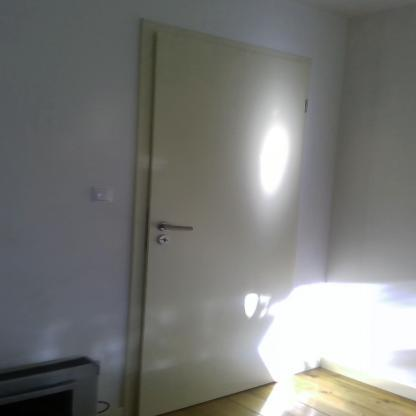door: (146, 32, 295, 400)
hinged: (303, 98, 309, 113)
lever: (160, 223, 196, 235)
